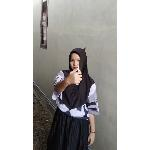Pisau: (73, 45, 90, 87)
